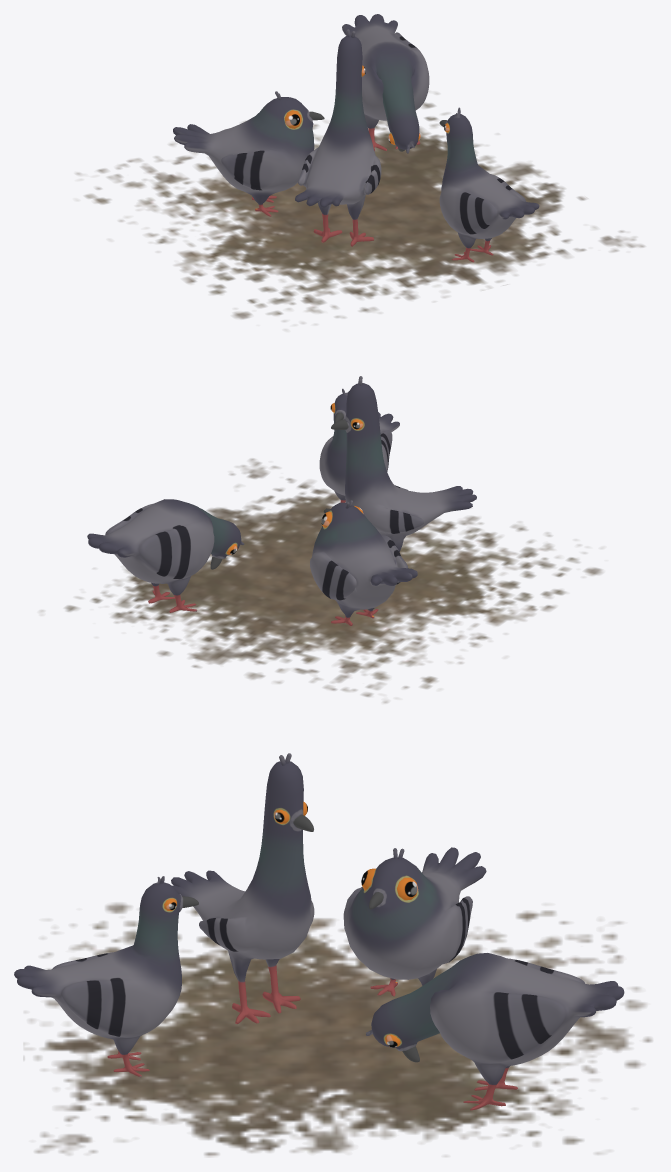
3 renders of one model, top to bottom at view 1: azimuth 30°, elevation 25°; view 2: azimuth 150°, elevation 25°; view 3: azimuth 270°, elevation 25°, orthographic. The views are drawn at different scales.
Visible parts, largest first — view 1: Floor, Pigeon_001, Pigeon_003, Pigeon_004, Pigeon_002; view 2: Floor, Pigeon_004, Pigeon_001, Pigeon_003, Pigeon_002; view 3: Floor, Pigeon_004, Pigeon_001, Pigeon_002, Pigeon_003.
Part boxes in pixels (box(x1,y1,x2,y2)): Floor: box(76, 93, 644, 323); Pigeon_001: box(295, 29, 381, 246); Pigeon_003: box(173, 91, 324, 216); Pigeon_004: box(342, 14, 429, 153); Pigeon_002: box(439, 107, 539, 262); Floor: box(40, 458, 602, 703); Pigeon_004: box(87, 499, 244, 612); Pigeon_001: box(331, 376, 476, 551); Pigeon_003: box(310, 500, 417, 625); Pigeon_002: box(319, 388, 399, 502); Floor: box(24, 903, 651, 1156); Pigeon_004: box(366, 953, 624, 1110); Pigeon_001: box(171, 753, 314, 1023); Pigeon_002: box(14, 876, 198, 1077); Pigeon_003: box(343, 847, 486, 996).
Size of the model in its own units: 0.0652 by 0.0304 by 0.0662.
Materials: 1 (1 with a texture image).
